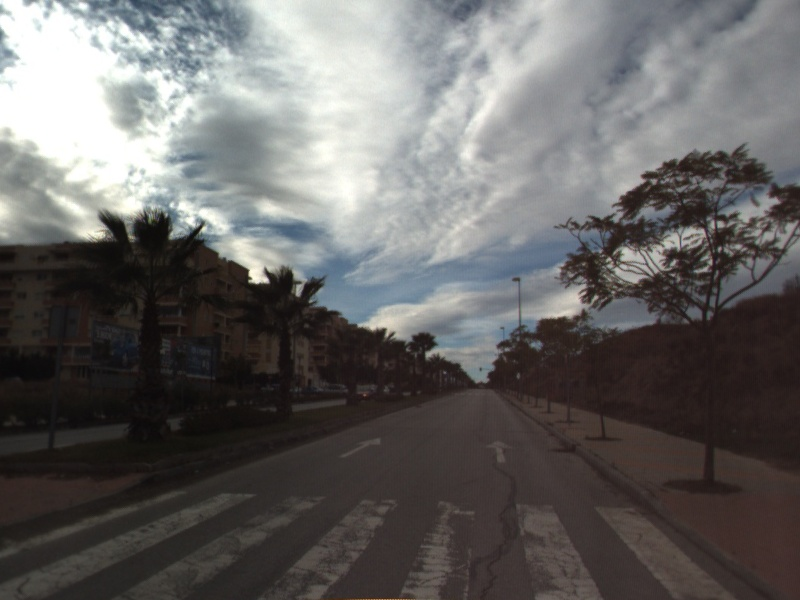STRAIGHT: (337, 435, 383, 460), (483, 438, 515, 465)
